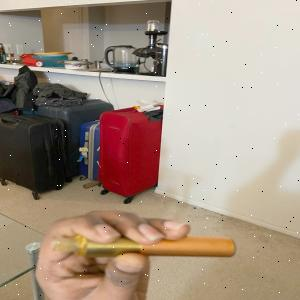Golden-E-Ciggirate: (46, 233, 242, 265)
